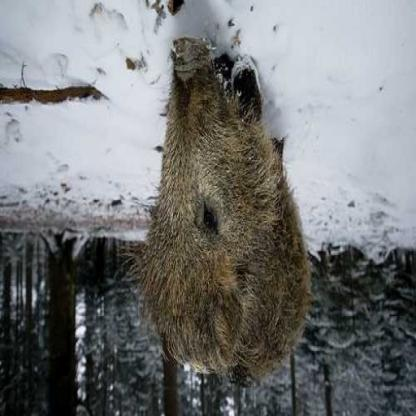boar: (125, 50, 311, 382)
